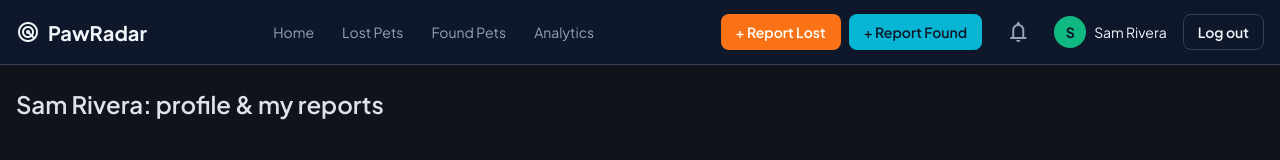
Test: LogoutButton › 6. shows an error and keeps the user signed in when logout returns 500
Click the button "Log out": (1223, 32) [1183, 14, 1264, 50]
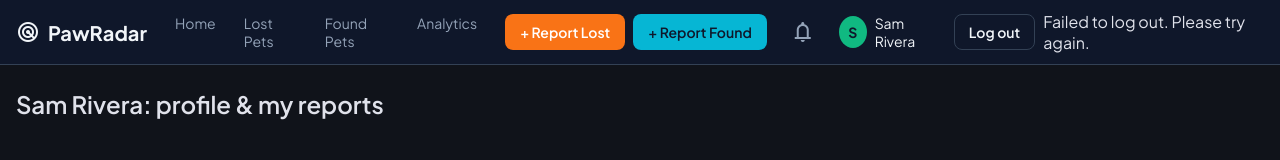
Expected: the button "Log out" is shown, [954, 14, 1035, 50]
Result: the message shows "Failed to log out. Please try again" at [1043, 11, 1245, 53]
